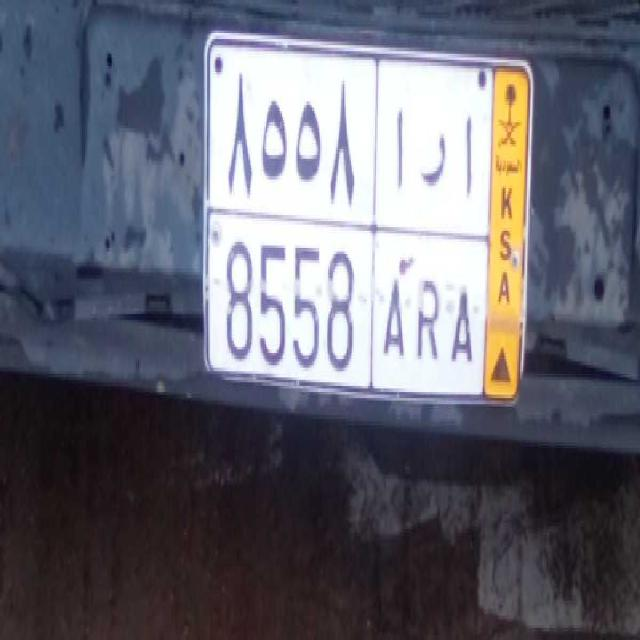license_plate: (204, 214, 483, 399)
